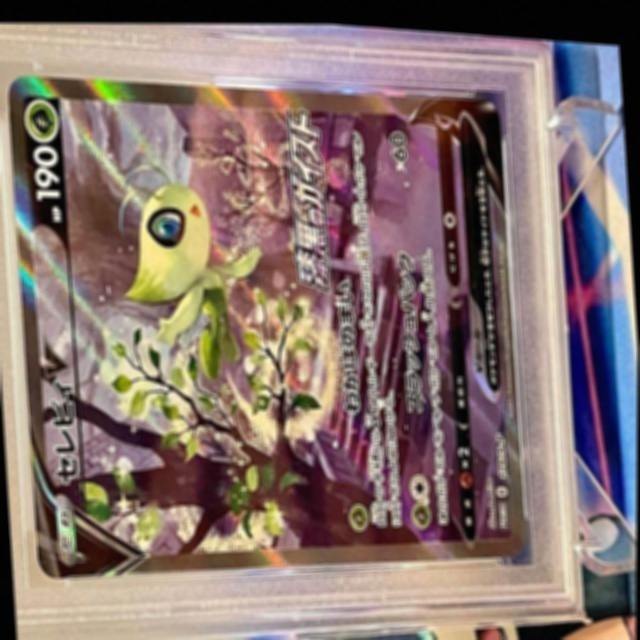card: (7, 73, 527, 577)
